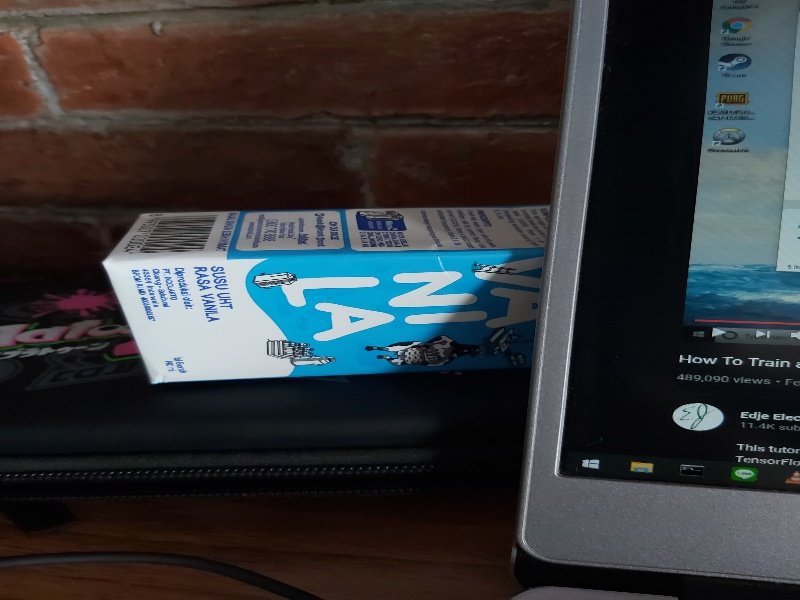vanilla: (103, 202, 556, 386)
